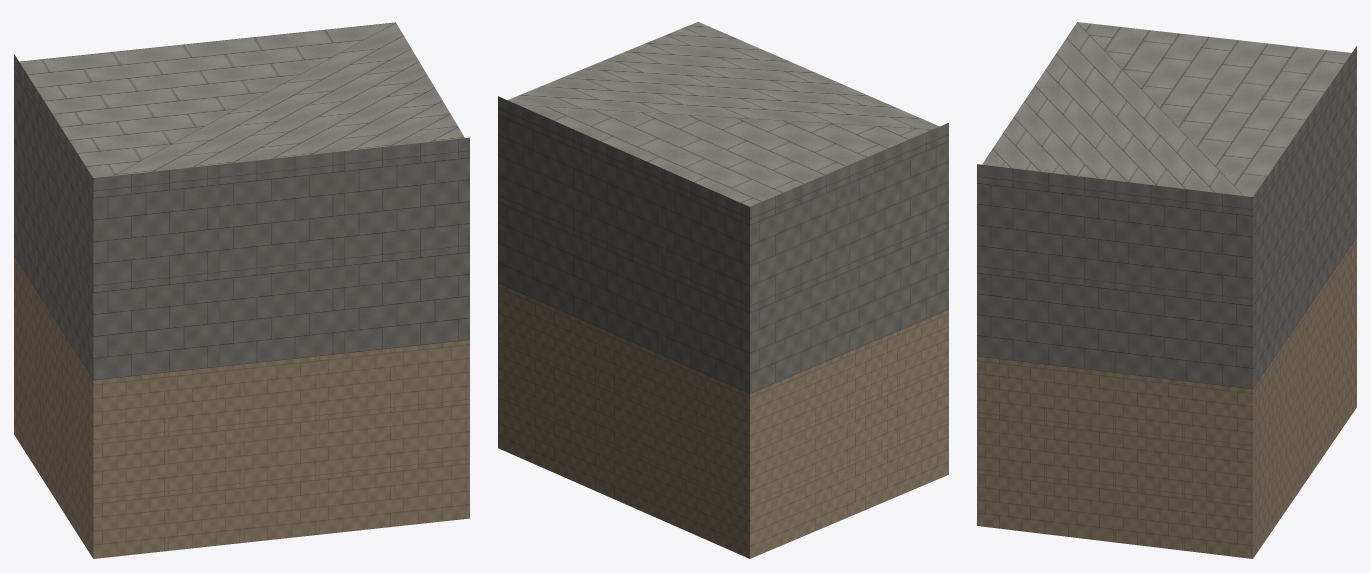
Rendered from bld_c11_8_515.gltf.
3 views of the same model, side by side, from view 1: azimuth 30°, elevation 25°; view 2: azimuth 150°, elevation 25°; view 3: azimuth 270°, elevation 25° (orthographic). The views are drawn at different scales.
Visible parts, largest first — view 1: bld_c11_8_515; view 2: bld_c11_8_515; view 3: bld_c11_8_515.
Boxes of the visible parts, x1,y1,x2,y2 form: bld_c11_8_515: [14, 22, 469, 558]; bld_c11_8_515: [498, 22, 948, 558]; bld_c11_8_515: [977, 22, 1356, 558].
Size of the model in its own units: 11.81 by 10.88 by 10.35.
4 materials, 4 textured.
